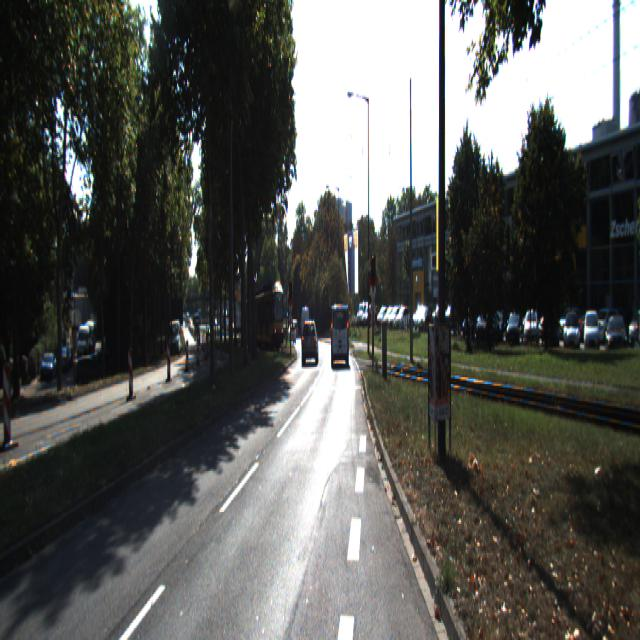Car: (246, 288, 286, 352), (332, 302, 348, 369), (300, 320, 320, 366)
